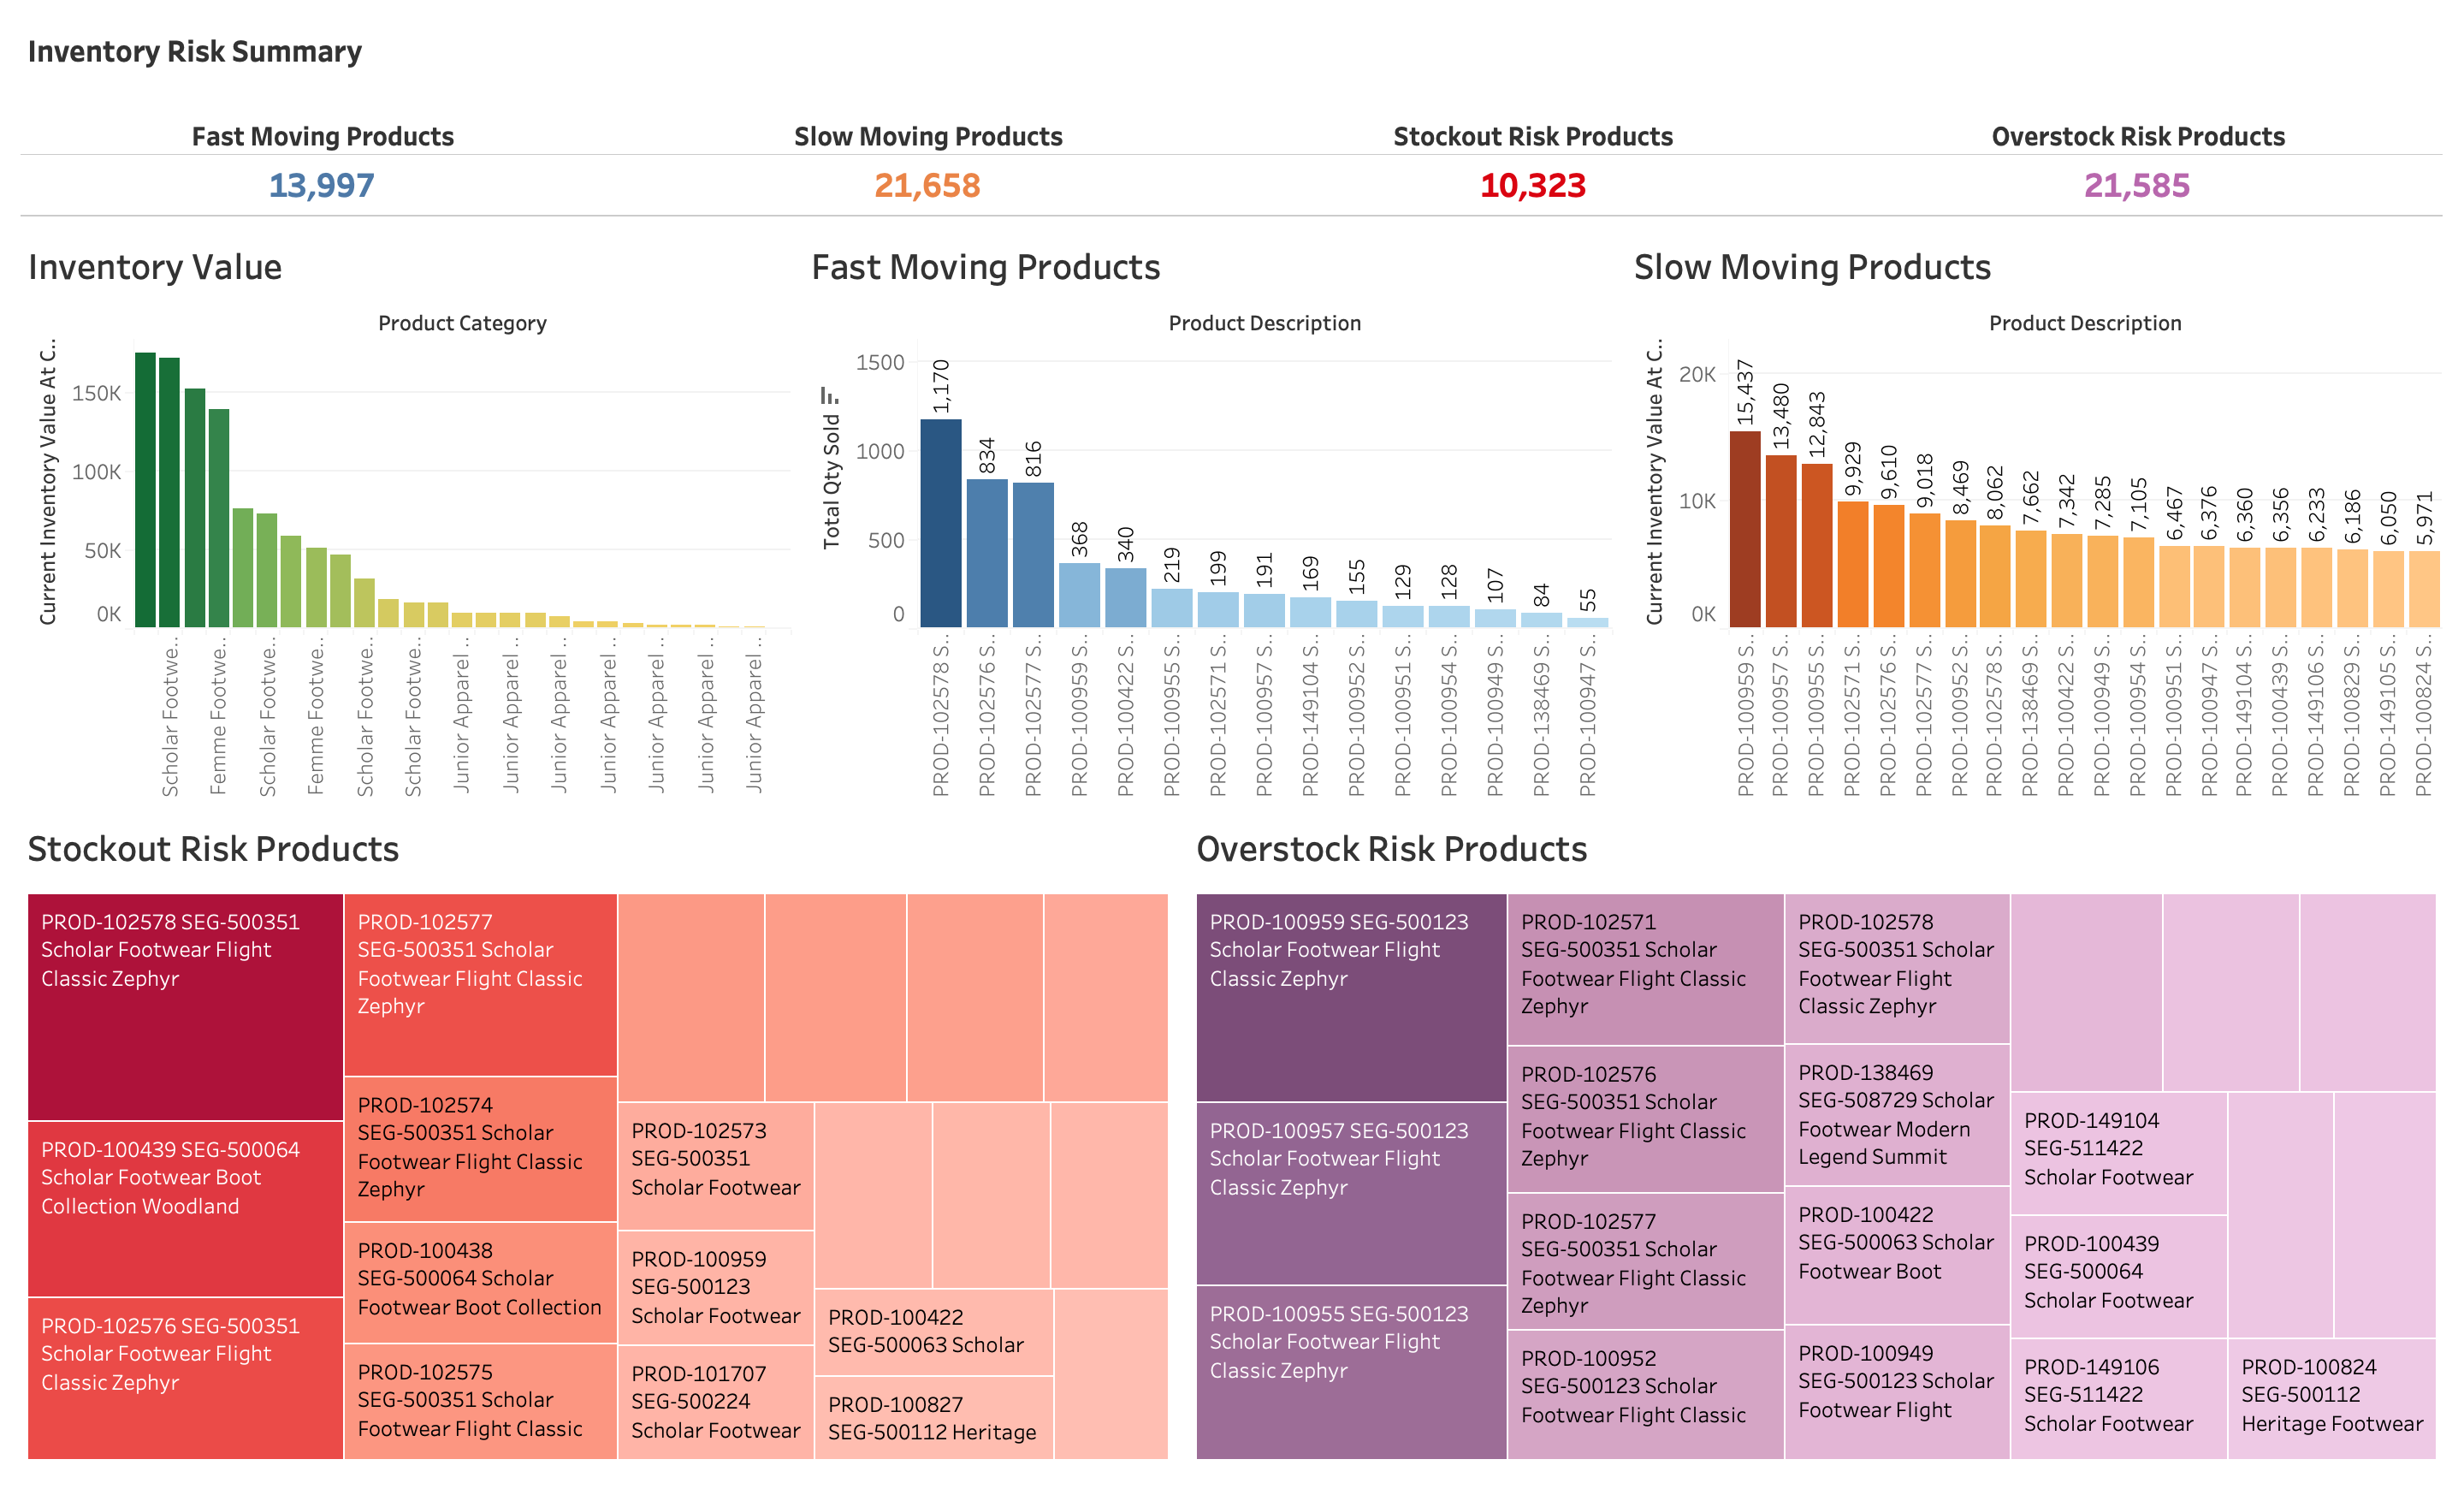

What the dashboard file says about the page in this screenshot:
{"tool":"tableau","page":{"name":"Inventory Risk Analysis","canvas":[1000,1000],"units":"permille","ordinal":1},"visuals":[{"type":"worksheet","title":"Inventory Risk Summary","mark":"Automatic","box":[6.4,9.9,987.3,141.2]},{"type":"worksheet","title":"Inventory Value","mark":"Automatic","rows":["current_inventory_value_at_cost"],"cols":["product_category"],"box":[6.4,151.1,317.9,389.7]},{"type":"worksheet","title":"Fast Moving Products","mark":"Automatic","rows":["total_qty_sold"],"cols":["product_description"],"box":[324.3,151.1,333.1,389.7]},{"type":"worksheet","title":"Slow Moving Products","mark":"Automatic","rows":["current_inventory_value_at_cost"],"cols":["product_description"],"box":[657.3,151.1,336.3,389.7]},{"type":"worksheet","title":"Stockout Risk Products","mark":"Automatic","box":[6.4,540.8,473.5,449.3]},{"type":"worksheet","title":"Overstock Risk Products","mark":"Automatic","box":[479.9,540.8,513.8,449.3]}]}

Visuals, with their boxes on the dashboard's canvas, which has no fixed pixel size, in thousandths of its width and height (x1, y1, x2, y2). These are canvas units, not pixel positions in the 2464x1489 screenshot, which may show the page scaled, cropped or inside an application window:
"Inventory Risk Summary" worksheet: <box>6,10,994,151</box>
"Inventory Value" worksheet: <box>6,151,324,541</box>
"Fast Moving Products" worksheet: <box>324,151,657,541</box>
"Slow Moving Products" worksheet: <box>657,151,994,541</box>
"Stockout Risk Products" worksheet: <box>6,541,480,990</box>
"Overstock Risk Products" worksheet: <box>480,541,994,990</box>
